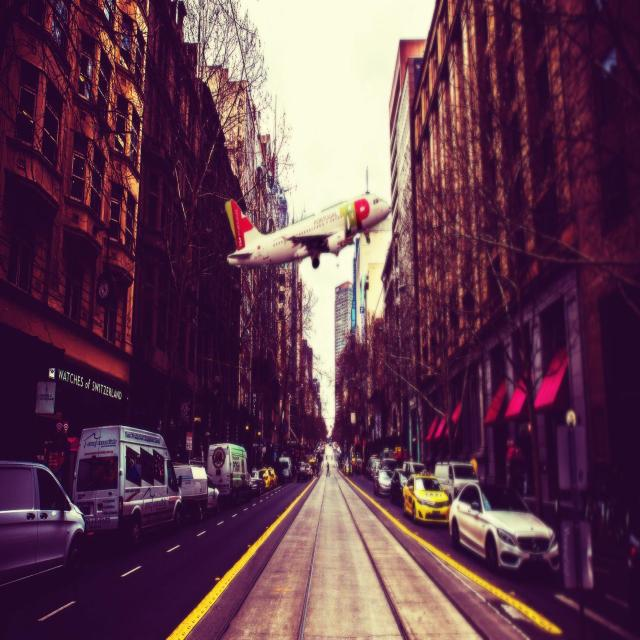airplane: (224, 190, 392, 270)
